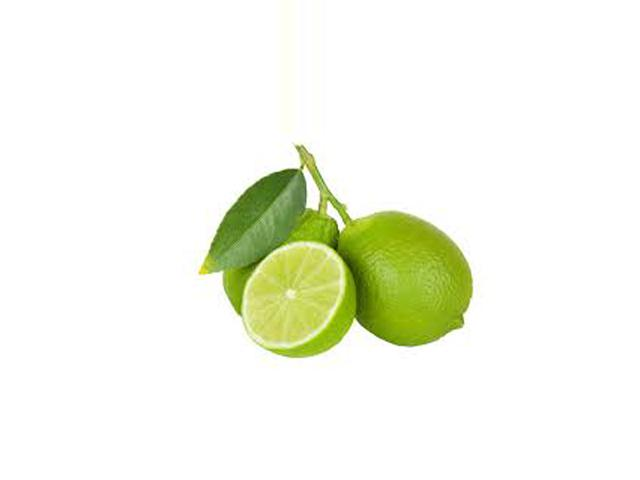lemon: (214, 192, 334, 320)
